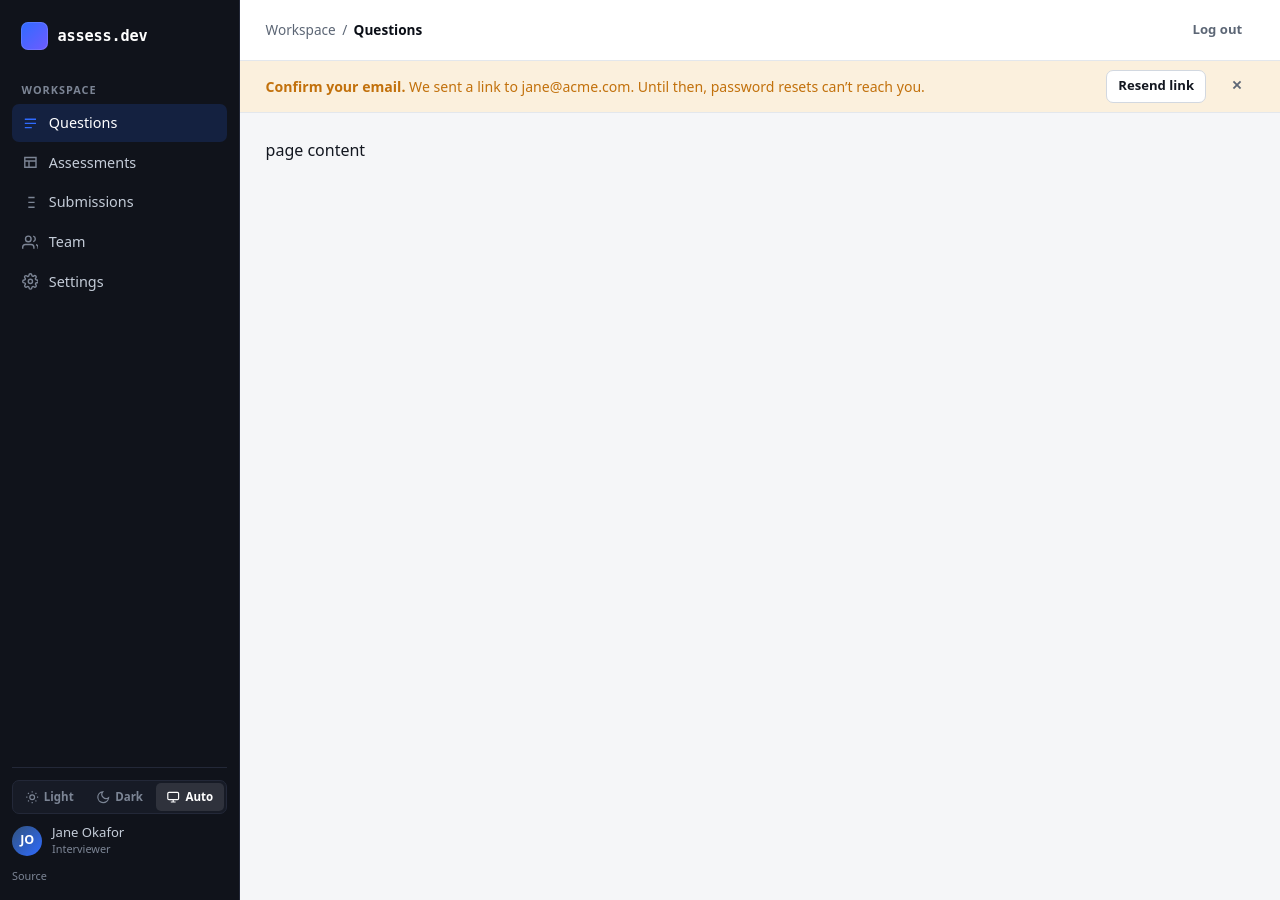
Test case: AppLayout › dismisses the banner until the next page load
Click the button named "hide for now". click: (1237,86)
box: top-left (1219, 70), bottom-right (1254, 103)
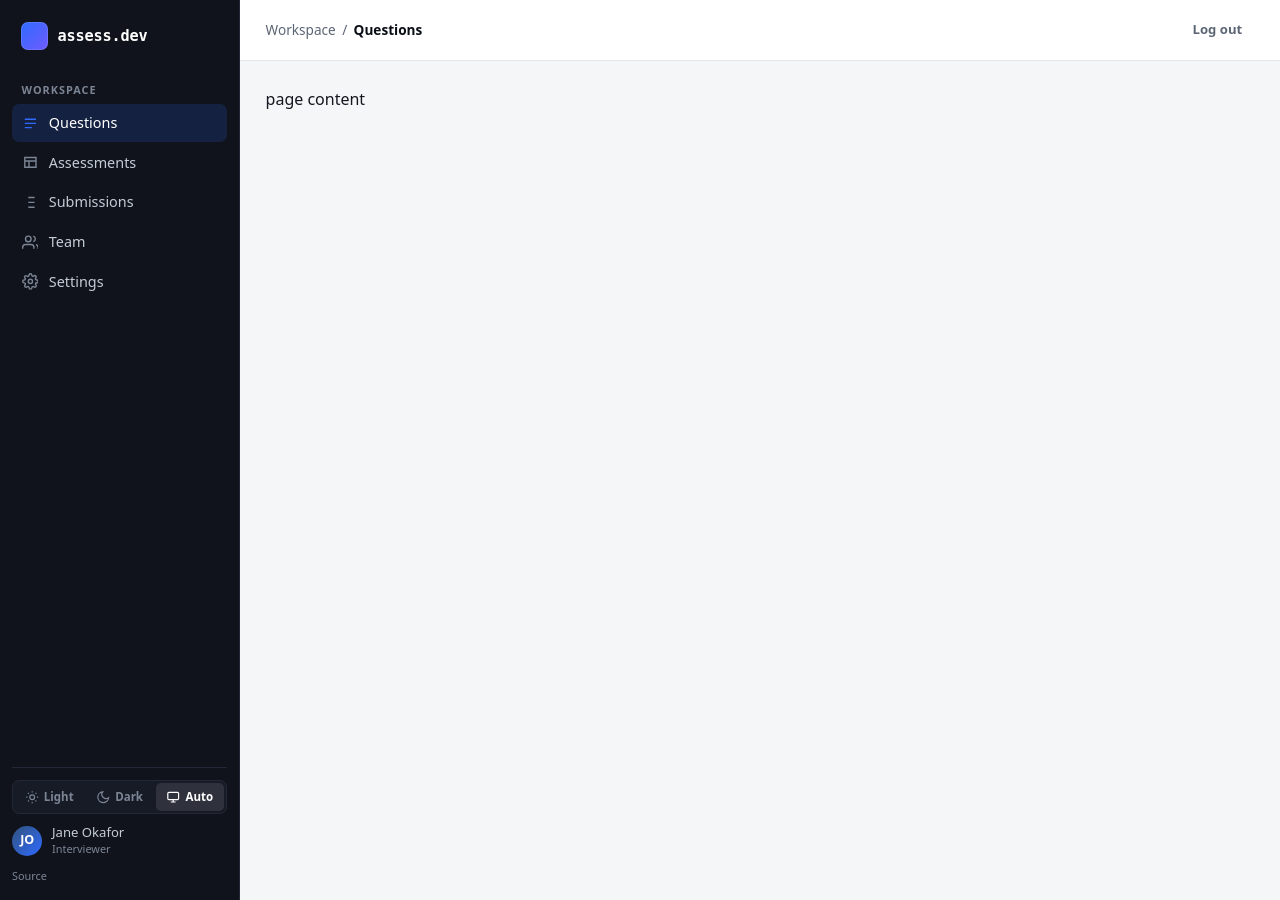
Check: the message is gone
